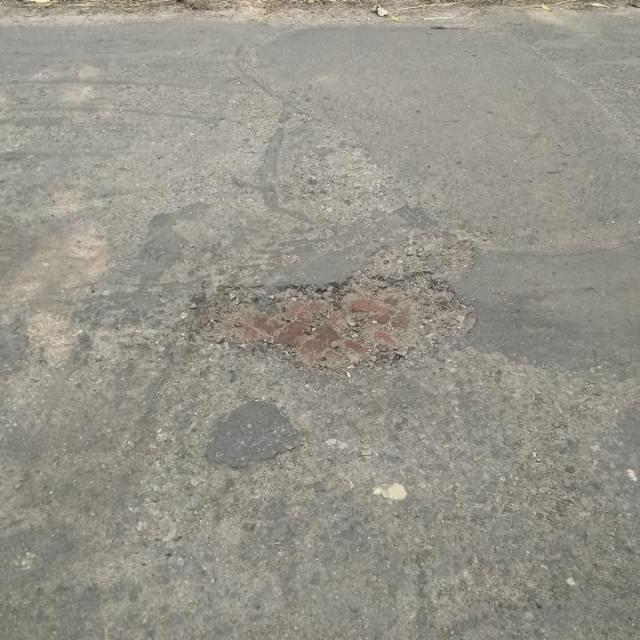Pothole: (189, 271, 482, 379)
